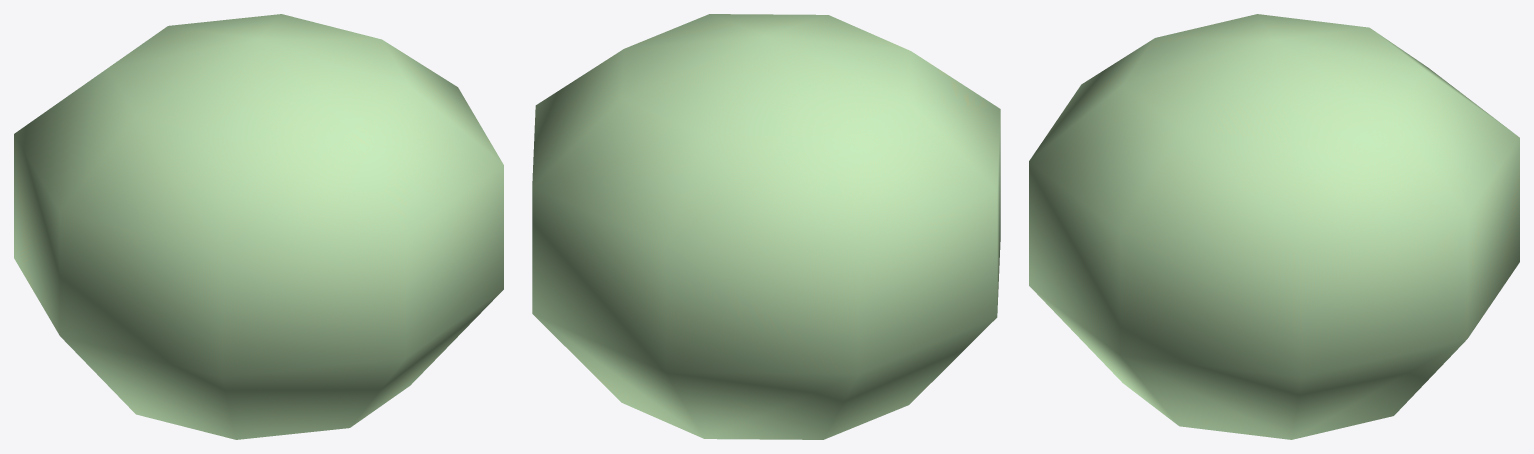
Rendered from leaf.dae.
The picture shows the model from 3 angles, left to right: view 1: azimuth 30°, elevation 25°; view 2: azimuth 150°, elevation 25°; view 3: azimuth 270°, elevation 25°; orthographic projection.
Parts seen in each view (by area): view 1: instance_4; view 2: instance_4; view 3: instance_4.
Boxes of the visible parts, box(x1,y1,x2,y2) form: instance_4: box(14, 14, 503, 439); instance_4: box(532, 14, 1000, 439); instance_4: box(1029, 14, 1519, 439).
Bounding box in the file's own units: 0.5694 × 0.5693 × 0.4614.
